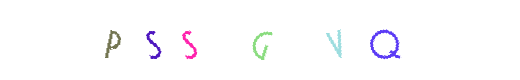2: (242, 0, 322, 80)
5: (187, 0, 267, 80)
G: (220, 0, 300, 80)
P: (72, 0, 152, 80)
Q: (330, 0, 410, 80)
S: (113, 0, 193, 80), (149, 0, 229, 80)
V: (252, 0, 332, 80)
